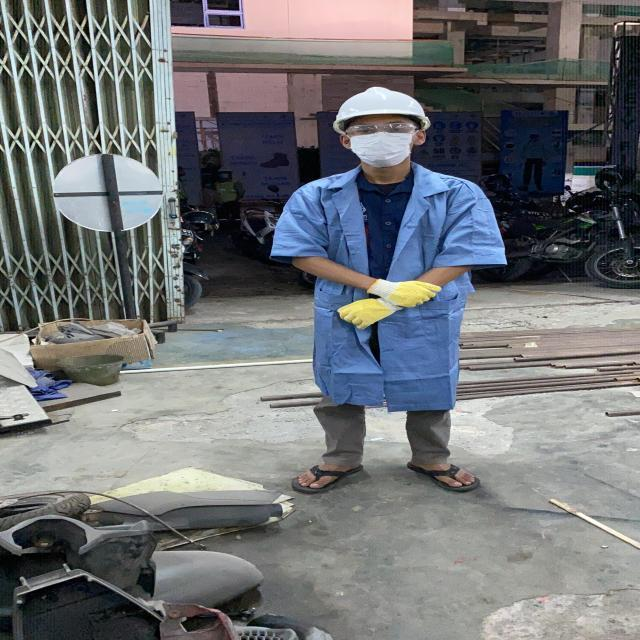glasses: (338, 120, 424, 137)
